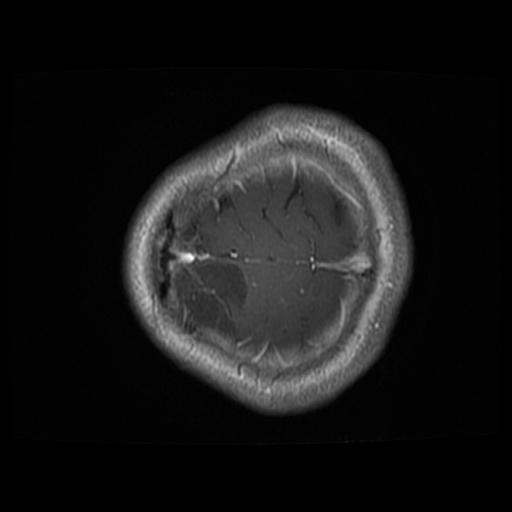glioma: (171, 259, 248, 340)
